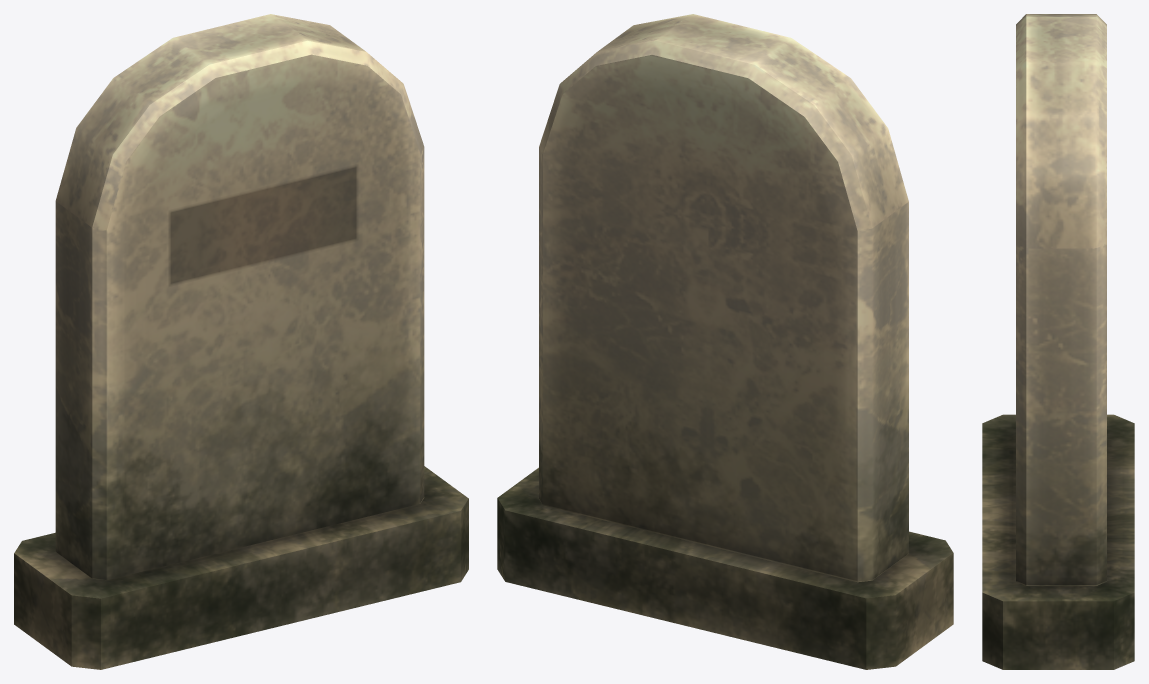
File: SM_Tombstone_1.FBX
3 views of the same model, side by side, from view 1: azimuth 30°, elevation 25°; view 2: azimuth 150°, elevation 25°; view 3: azimuth 270°, elevation 25° (orthographic). The views are drawn at different scales.
Parts seen in each view (by area): view 1: Tombstone_1; view 2: Tombstone_1; view 3: Tombstone_1.
Boxes of the visible parts, x1,y1,x2,y2 form: Tombstone_1: (14,14,468,669); Tombstone_1: (497,14,953,669); Tombstone_1: (982,14,1134,669).
Size of the model in its own units: 21.61 by 7.44 by 28.94.
